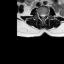CCS_normal: (42, 12, 43, 19)
LFS_normal: (45, 12, 46, 17)
LLS_normal: (43, 12, 45, 18)
RFS_normal: (39, 12, 40, 17)
RLS_normal: (40, 12, 42, 18)
